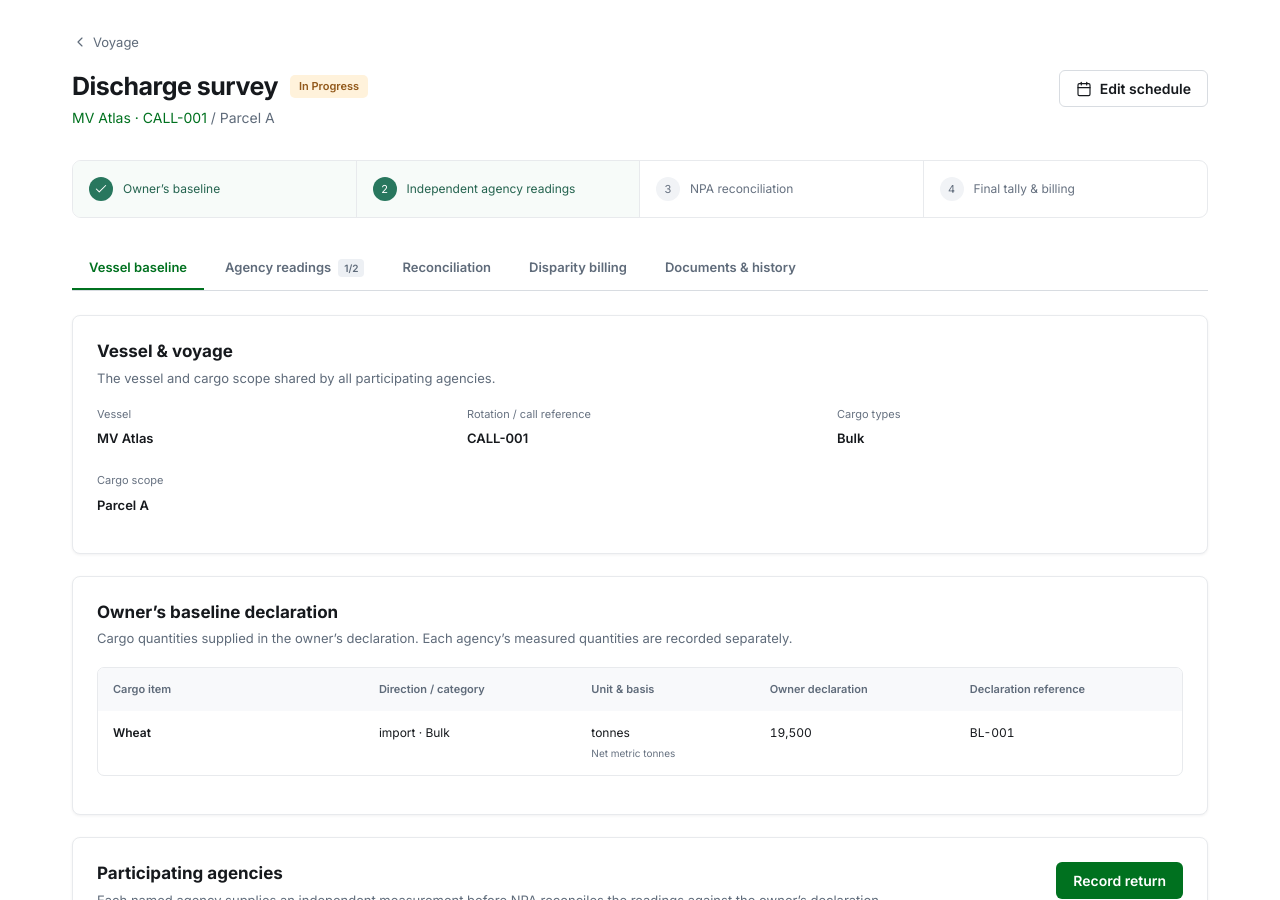
measurement workflow › places the owner baseline and agencies before independent measurement arrangements
The width and height of the screenshot is (1280, 900).
Expected: the heading "Discharge survey" is shown, top-left (72, 70), bottom-right (278, 103)
Click the tab "Agency readings1/2".
click(295, 268)  # box top-left (208, 246), bottom-right (382, 290)
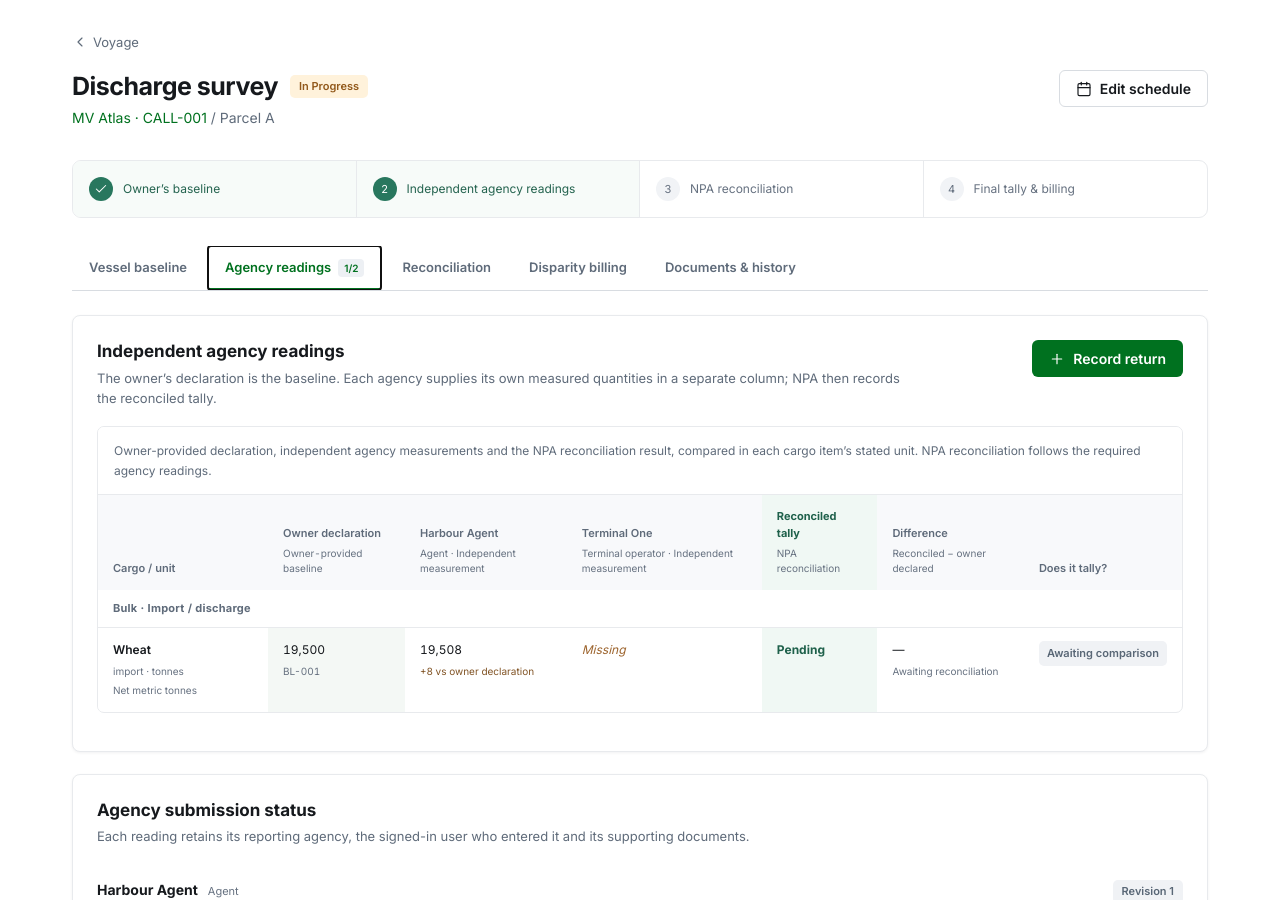
Result: the heading "Independent agency readings" is shown at top-left (97, 341), bottom-right (344, 361)
Result: the text "The owner’s declaration is the baseline" is shown at top-left (97, 370), bottom-right (900, 406)
